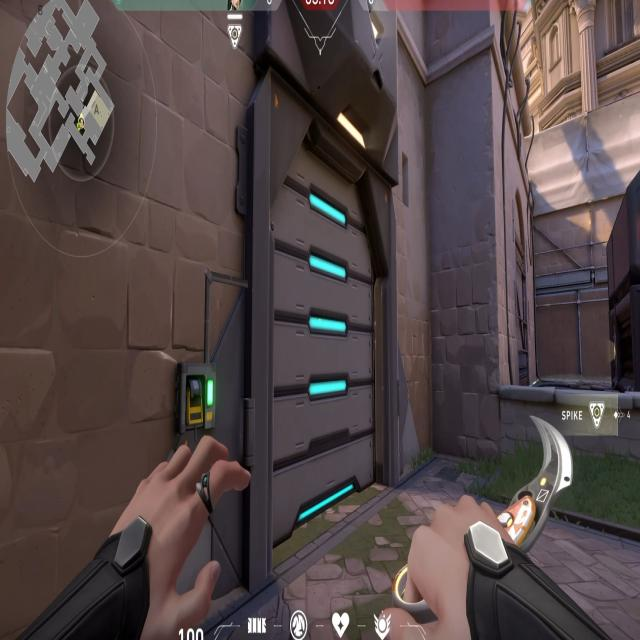A_Door: (246, 52, 409, 576)
A_Heaven_Wall: (519, 94, 640, 297)
